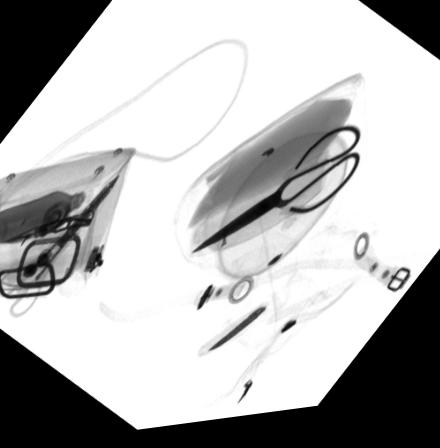Knife: (206, 311, 266, 356)
Scissors: (191, 135, 361, 257), (0, 178, 118, 318)
